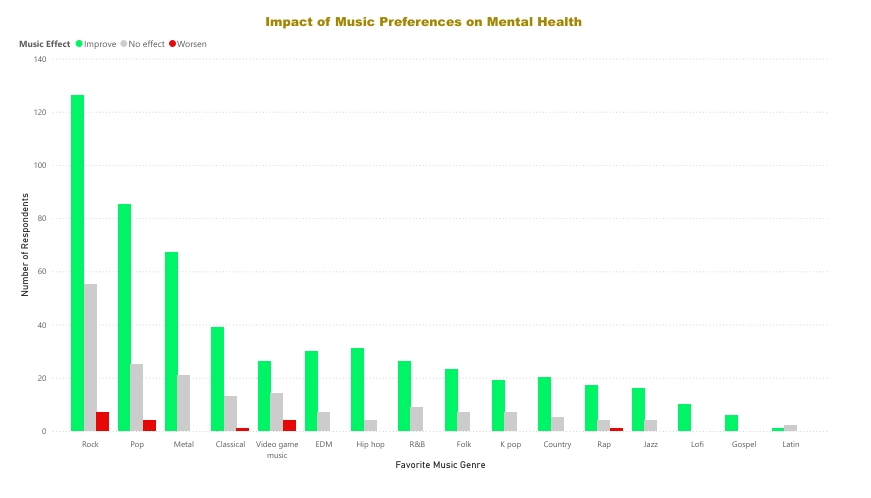

Layout of this report page (visuals, bound fields, positions):
{"tool":"powerbi","page":{"name":"Music Effects","canvas":[1280,720],"ordinal":4},"visuals":[{"type":"clusteredColumnChart","title":"Impact of Music Preferences on Mental Health","fields":{"Category":["survey_results.Fav genre"],"Series":["survey_results.MusicEffects"],"Y":["CountNonNull(survey_results.Age Group)"]},"box":[9.6,0,1223.9,692.5],"z":0}]}

Visuals, with their boxes in screenshot pixels (x1, y1, x2, y2), scaled from the page's 1280x720 canvas onto the 871x498 screenshot:
"Impact of Music Preferences on Mental Health" clusteredColumnChart: 7/0/839/479
